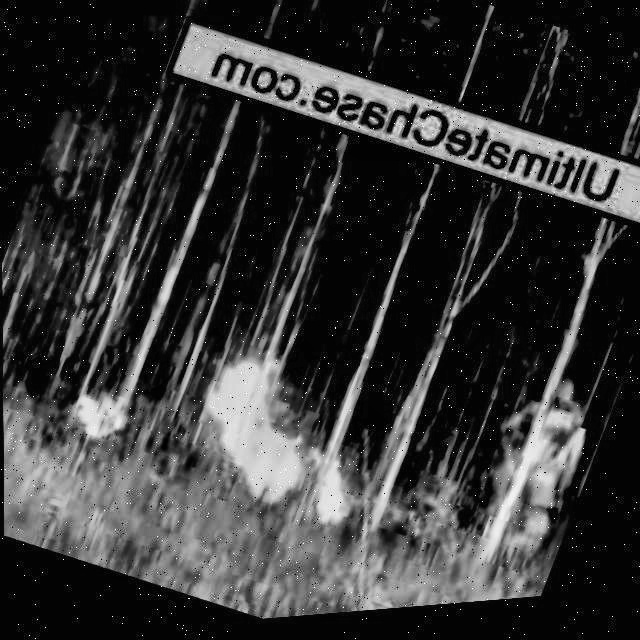Fire: (172, 336, 335, 514), (58, 370, 137, 455), (301, 457, 359, 538)
